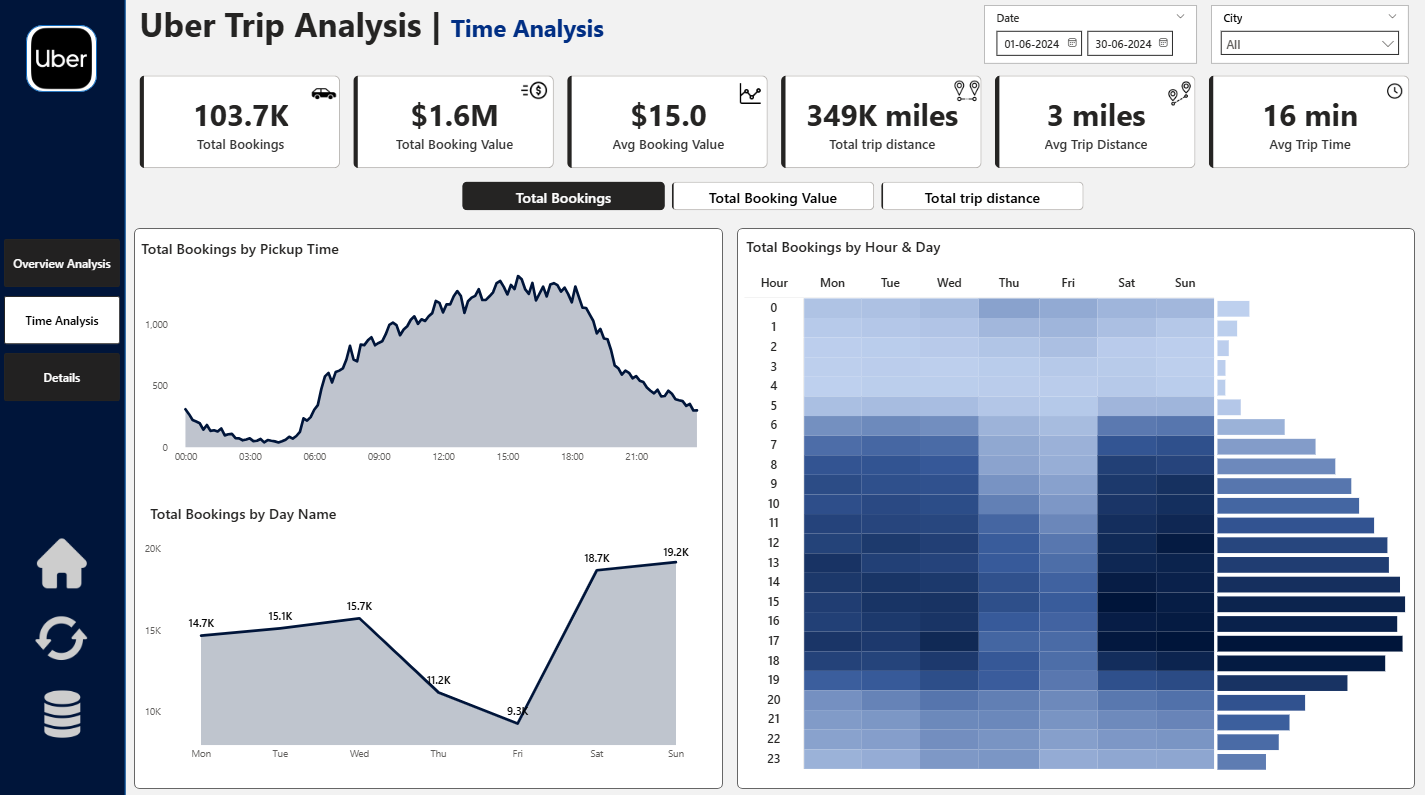

Layout of this report page (visuals, bound fields, positions):
{"tool":"powerbi","page":{"name":"Time Analysis","canvas":[1600,900],"ordinal":1},"visuals":[{"type":"shape","box":[0,0,142,900],"z":0},{"type":"cardVisual","fields":{"Data":["Trip Details.Total Bookings","Trip Details.Total Booking Amount","Trip Details.Avg Booking Amt","Trip Details.Total trip distance","Trip Details.Avg Trip Distance","Trip Details.Avg Trip Time"]},"box":[152.6,83,1437.5,114.5],"z":0,"group":"g1"},{"type":"textbox","box":[152.6,0,648.6,61.7],"z":1000},{"type":"shape","box":[151.5,259.2,661,629.6],"z":2000},{"type":"image","box":[578.6,85.6,42.6,39.3],"z":3000,"group":"g1"},{"type":"group","id":"g1","title":"Group 1","box":[152.6,83,1437.5,114.5],"z":3000},{"type":"image","box":[1066.8,85.6,38.2,39.3],"z":4000,"group":"g1"},{"type":"advancedSlicerVisual","fields":{"Values":["Parameter.Parameter"]},"box":[515.1,204.2,709.2,40.4],"z":4000},{"type":"image","box":[1305.8,90.1,38.2,37],"z":5000,"group":"g1"},{"type":"slicer","fields":{"Values":["Calender Table.Date"]},"box":[1105.4,9,239,66.2],"z":5000},{"type":"slicer","fields":{"Values":["Location Table.City"]},"box":[1360.1,9,222.2,66.2],"z":6000},{"type":"image","box":[1549.3,92.3,32.5,26.9],"z":6000,"group":"g1"},{"type":"image","box":[822.1,90.1,40.4,37],"z":7000,"group":"g1"},{"type":"areaChart","fields":{"Y":["Trip Details.Total Bookings"],"Category":["Trip Details.Pickup Hour (HH MM SS) (bins)"]},"box":[158.2,298.5,643,235.7],"z":7000},{"type":"image","box":[345.2,87.8,38.2,41.5],"z":8000,"group":"g1"},{"type":"cardVisual","fields":{"Data":["Trip Details.Title for Pickup Time"]},"box":[142.5,246.9,294,60.6],"z":8000},{"type":"areaChart","fields":{"Y":["Trip Details.Total Bookings"],"Category":["Calender Table.Day Name"]},"box":[158.2,604.9,641.9,262.6],"z":9000},{"type":"cardVisual","fields":{"Data":["Trip Details.Title for Day Name"]},"box":[152.6,544.3,294,60.6],"z":10000},{"type":"shape","box":[828.2,259.2,760.8,629.6],"z":11000},{"type":"pivotTable","fields":{"Values":["Trip Details.Total Bookings"],"Rows":["Trip Details.Pickup Hour"],"Columns":["Calender Table.Day Name"]},"box":[831.5,305.2,545.4,579.1],"z":12000},{"type":"barChart","fields":{"Y":["Trip Details.Total Bookings"],"Category":["Trip Details.Pickup Hour"]},"box":[1362.3,327.7,223,567],"z":13000},{"type":"cardVisual","fields":{"Data":["Trip Details.Title for Hour & Day"]},"box":[821.4,244.6,294,60.6],"z":14000},{"type":"shape","box":[30.3,31.4,79.7,75.2],"z":14500},{"type":"image","box":[10.1,13.5,120.1,111.1],"z":15000},{"type":"pageNavigator","box":[5.6,271.6,130.2,184],"z":17000},{"type":"image","box":[32.5,602.6,76.3,66.2],"z":17001},{"type":"image","box":[35.9,684.5,68.5,70.7],"z":17002},{"type":"image","box":[32.5,773.2,77.4,62.8],"z":17003}]}

Visuals, with their boxes in screenshot pixels (x1, y1, x2, y2), scaled from the page's 1600x900 canvas onto the 1425x795 screenshot:
shape: 0 0 126 794
cardVisual - Trip Details.Total Bookings x Trip Details.Total Booking Amount: 136 73 1416 174
textbox: 136 0 714 55
shape: 135 229 724 785
image: 515 76 553 110
"Group 1" group: 136 73 1416 174
image: 950 76 984 110
advancedSlicerVisual - Parameter.Parameter: 459 180 1090 216
image: 1163 80 1197 112
slicer - Calender Table.Date: 984 8 1197 66
slicer - Location Table.City: 1211 8 1409 66
image: 1380 82 1409 105
image: 732 80 768 112
areaChart - Trip Details.Total Bookings x Trip Details.Pickup Hour (HH MM SS) (bins): 141 264 714 472
image: 307 78 341 114
cardVisual - Trip Details.Title for Pickup Time: 127 218 389 272
areaChart - Trip Details.Total Bookings x Calender Table.Day Name: 141 534 713 766
cardVisual - Trip Details.Title for Day Name: 136 481 398 534
shape: 738 229 1415 785
pivotTable - Trip Details.Total Bookings x Trip Details.Pickup Hour: 741 270 1226 781
barChart - Trip Details.Total Bookings x Trip Details.Pickup Hour: 1213 289 1412 790
cardVisual - Trip Details.Title for Hour & Day: 732 216 993 270
shape: 27 28 98 94
image: 9 12 116 110
pageNavigator: 5 240 121 402
image: 29 532 97 591
image: 32 605 93 667
image: 29 683 98 738
